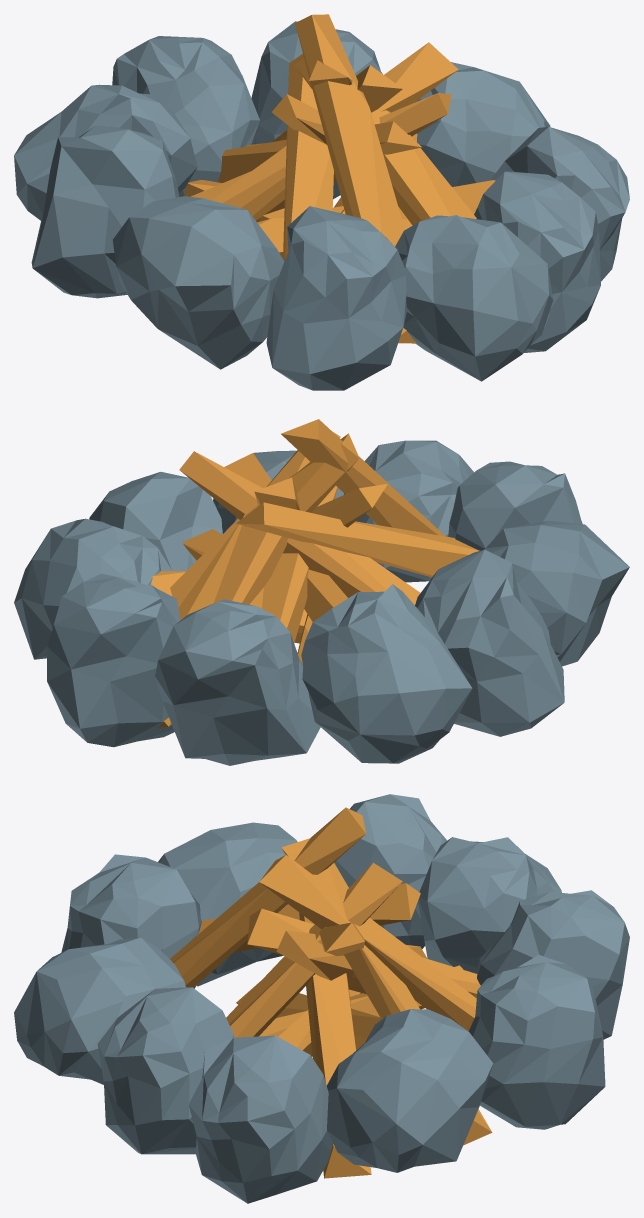
3 renders of one model, top to bottom at view 1: azimuth 30°, elevation 25°; view 2: azimuth 150°, elevation 25°; view 3: azimuth 270°, elevation 25°, orthographic. The views are drawn at different scales.
Visible parts, largest first — view 1: mesh_892480046, mesh_212083371, mesh_875662888, mesh_1944955449, mesh_1018234420, mesh_735560666, mesh_935333631, mesh_311658159, mesh_791873601, mesh_733418719, mesh_1966946653, mesh_1729271389 (+9 smaller); view 2: mesh_791873601, mesh_1018234420, mesh_1852237029, mesh_1944955449, mesh_892480046, mesh_311658159, mesh_212083371, mesh_1729271389, mesh_733418719, mesh_875662888, mesh_1966946653, mesh_1277257069 (+9 smaller); view 3: mesh_311658159, mesh_733418719, mesh_1852237029, mesh_735560666, mesh_875662888, mesh_791873601, mesh_1018234420, mesh_212083371, mesh_892480046, mesh_1277257069, mesh_1944955449, mesh_935333631 (+10 smaller).
Part boxes in pixels (x1,y1,x2,y2): mesh_892480046: [112, 196, 284, 369]; mesh_212083371: [266, 206, 406, 390]; mesh_875662888: [395, 215, 553, 381]; mesh_1944955449: [31, 125, 179, 298]; mesh_1018234420: [112, 36, 259, 196]; mesh_735560666: [474, 171, 600, 352]; mesh_935333631: [295, 14, 416, 343]; mesh_311658159: [415, 62, 550, 186]; mesh_791873601: [14, 84, 197, 220]; mesh_733418719: [490, 126, 629, 281]; mesh_1966946653: [211, 42, 458, 220]; mesh_1729271389: [283, 54, 333, 261]; mesh_791873601: [301, 584, 472, 763]; mesh_1018234420: [155, 599, 320, 765]; mesh_1852237029: [47, 573, 180, 747]; mesh_1944955449: [415, 549, 564, 736]; mesh_892480046: [485, 520, 629, 666]; mesh_311658159: [14, 518, 172, 659]; mesh_212083371: [448, 461, 582, 550]; mesh_1729271389: [236, 502, 479, 577]; mesh_733418719: [89, 472, 222, 571]; mesh_875662888: [344, 440, 473, 582]; mesh_1966946653: [179, 451, 420, 604]; mesh_1277257069: [157, 432, 340, 727]; mesh_311658159: [327, 1009, 493, 1172]; mesh_733418719: [188, 1035, 332, 1203]; mesh_1852237029: [468, 955, 605, 1129]; mesh_735560666: [97, 987, 234, 1154]; mesh_875662888: [14, 937, 185, 1084]; mesh_791873601: [418, 837, 561, 973]; mesh_1018234420: [476, 890, 629, 1039]; mesh_212083371: [61, 854, 201, 988]; mesh_892480046: [158, 822, 297, 986]; mesh_1277257069: [259, 855, 476, 1031]; mesh_1944955449: [334, 794, 446, 948]; mesh_935333631: [170, 807, 365, 987].
Size of the model in its own units: 64.5 by 35.05 by 66.47.
